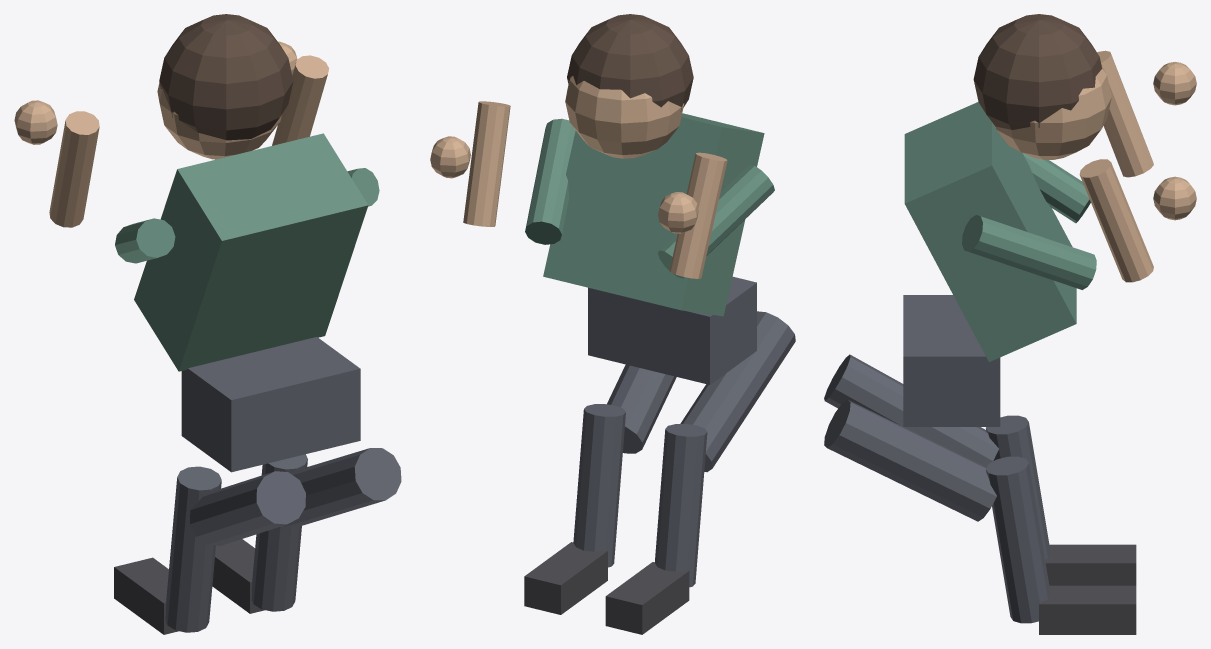
File: kit-rider.glb
The picture shows the model from 3 angles, left to right: view 1: azimuth 30°, elevation 25°; view 2: azimuth 150°, elevation 25°; view 3: azimuth 270°, elevation 25°; orthographic projection. The views are drawn at different scales.
Parts seen in each view (by area): view 1: torso, hip, hair, shin-l, thigh-l, thigh-r, shin-r, forearm-l, shoe-l, forearm-r, shoe-r, head (+3 smaller); view 2: torso, hip, hair, shin-l, shin-r, head, thigh-l, shoe-l, upper-arm-r, shoe-r, forearm-r, forearm-l (+4 smaller); view 3: torso, hip, hair, thigh-r, shin-r, thigh-l, upper-arm-r, shoe-r, head, forearm-r, shoe-l, forearm-l (+4 smaller).
Part boxes in pixels (x1,y1,x2,y2): torso: [134, 133, 368, 371]; hip: [181, 337, 360, 472]; hair: [159, 14, 293, 140]; shin-l: [165, 466, 221, 632]; thigh-l: [190, 471, 305, 545]; thigh-r: [284, 448, 401, 526]; shin-r: [251, 454, 307, 611]; forearm-l: [49, 111, 99, 227]; shoe-l: [114, 557, 178, 634]; forearm-r: [272, 55, 329, 145]; shoe-r: [212, 539, 264, 613]; head: [157, 82, 281, 159]; torso: [543, 113, 764, 316]; hip: [588, 276, 756, 384]; hair: [567, 14, 693, 111]; shin-l: [654, 424, 707, 587]; shin-r: [573, 404, 625, 567]; head: [565, 76, 684, 158]; thigh-l: [680, 311, 795, 472]; shoe-l: [605, 562, 689, 634]; upper-arm-r: [525, 118, 575, 244]; shoe-r: [524, 542, 607, 614]; forearm-r: [463, 101, 510, 226]; forearm-l: [669, 152, 727, 278]; torso: [904, 102, 1076, 361]; hip: [903, 295, 1000, 426]; hair: [973, 14, 1102, 129]; thigh-r: [824, 400, 996, 521]; shin-r: [986, 456, 1050, 623]; thigh-l: [824, 354, 998, 467]; upper-arm-r: [962, 215, 1096, 289]; shoe-r: [1039, 585, 1136, 634]; head: [993, 65, 1111, 159]; forearm-r: [1079, 159, 1153, 282]; shoe-l: [1045, 544, 1136, 585]; forearm-l: [1097, 50, 1153, 177].
Bounding box in the file's own units: 0.65 × 1.33 × 0.7679.
